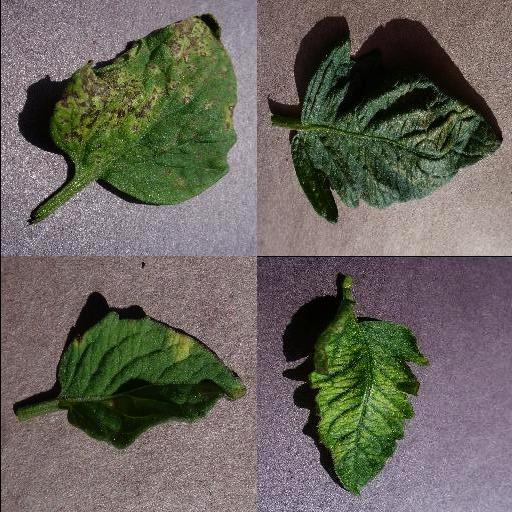Leaf Mold: (56, 312, 248, 448)
Mosaic Virus: (308, 302, 432, 496)
Septoria: (49, 16, 237, 207)
Spider Mites: (288, 36, 502, 222)
